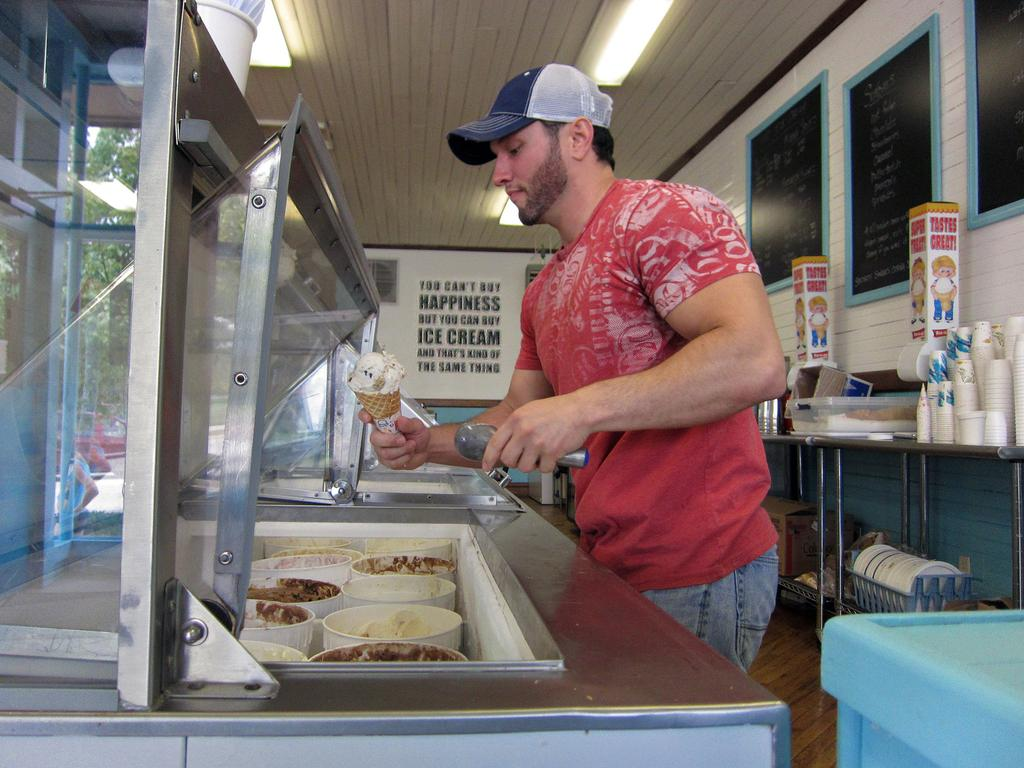Hat: (448, 60, 614, 170)
